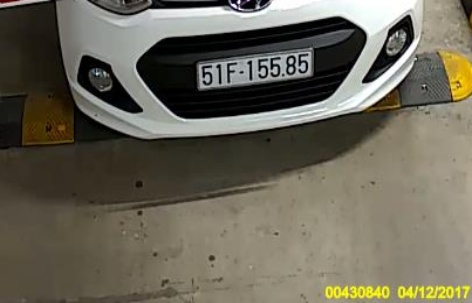plate: (190, 47, 321, 87)
